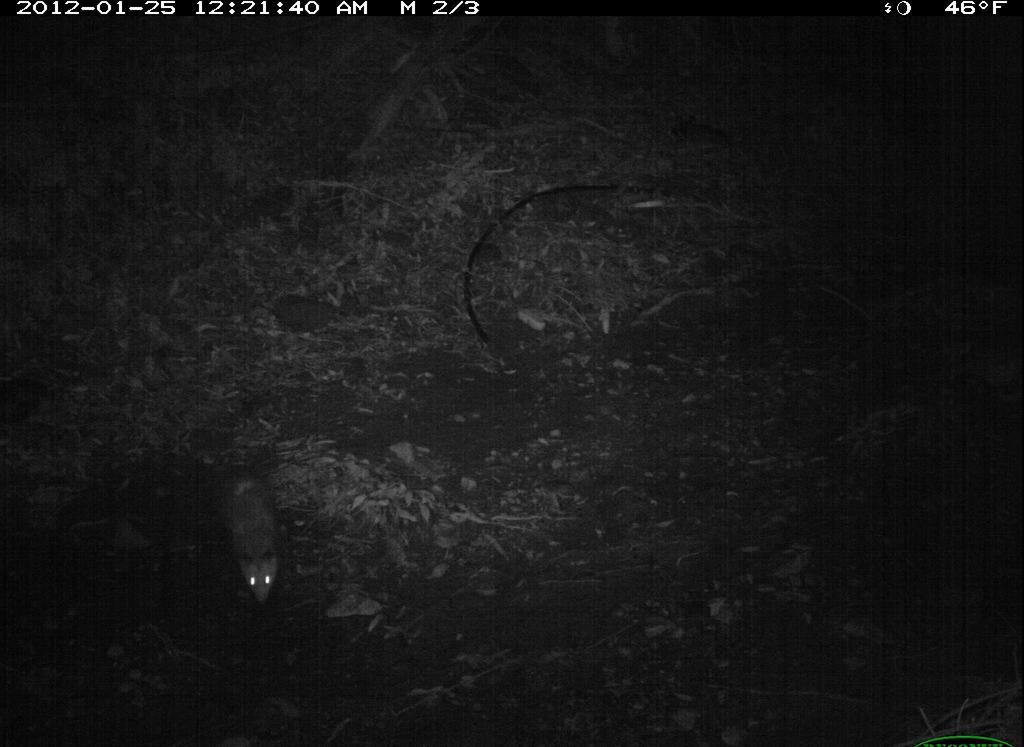opossum: (212, 461, 287, 612)
